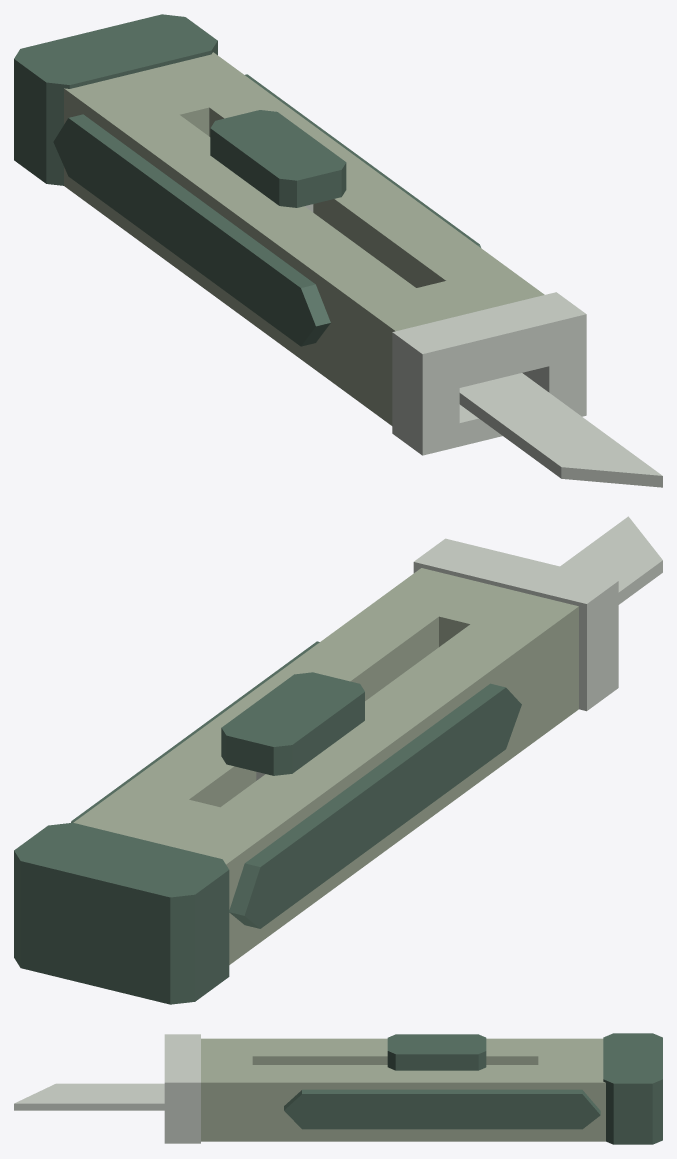
3 renders of one model, top to bottom at view 1: azimuth 30°, elevation 25°; view 2: azimuth 150°, elevation 25°; view 3: azimuth 270°, elevation 25°, orthographic. The views are drawn at different scales.
Visible parts, largest first — view 1: WholeSlottedSleeveBody, WholeFrontThroatCollar, WholeSideGripPanel_-1, WholeRearRetainingCap, WholeFixedBluntBladeExtension, WholeRaisedThumbSlider, WholeSideGripPanel_1; view 2: WholeSlottedSleeveBody, WholeRearRetainingCap, WholeSideGripPanel_-1, WholeFrontThroatCollar, WholeRaisedThumbSlider, WholeFixedBluntBladeExtension, WholeSideGripPanel_1; view 3: WholeSlottedSleeveBody, WholeSideGripPanel_1, WholeRearRetainingCap, WholeFrontThroatCollar, WholeFixedBluntBladeExtension, WholeRaisedThumbSlider.
Boxes of the visible parts, x1,y1,x2,y2 form: WholeSlottedSleeveBody: [64, 52, 544, 425]; WholeFrontThroatCollar: [392, 292, 586, 455]; WholeSideGripPanel_-1: [53, 114, 330, 346]; WholeRearRetainingCap: [14, 14, 217, 185]; WholeFixedBluntBladeExtension: [459, 373, 662, 487]; WholeRaisedThumbSlider: [210, 110, 346, 207]; WholeSideGripPanel_1: [245, 74, 480, 247]; WholeSlottedSleeveBody: [73, 568, 578, 964]; WholeRearRetainingCap: [14, 822, 229, 1004]; WholeSideGripPanel_-1: [229, 683, 521, 928]; WholeFrontThroatCollar: [413, 538, 618, 711]; WholeRaisedThumbSlider: [221, 672, 364, 775]; WholeFixedBluntBladeExtension: [560, 516, 662, 604]; WholeSideGripPanel_1: [71, 641, 319, 822]; WholeSlottedSleeveBody: [201, 1038, 605, 1141]; WholeSideGripPanel_1: [284, 1089, 600, 1129]; WholeRearRetainingCap: [603, 1033, 662, 1144]; WholeFrontThroatCollar: [164, 1034, 200, 1143]; WholeFixedBluntBladeExtension: [14, 1083, 164, 1110]; WholeRaisedThumbSlider: [387, 1034, 486, 1070].
Bounding box in the file's own units: 0.048 × 0.032 × 0.25.
